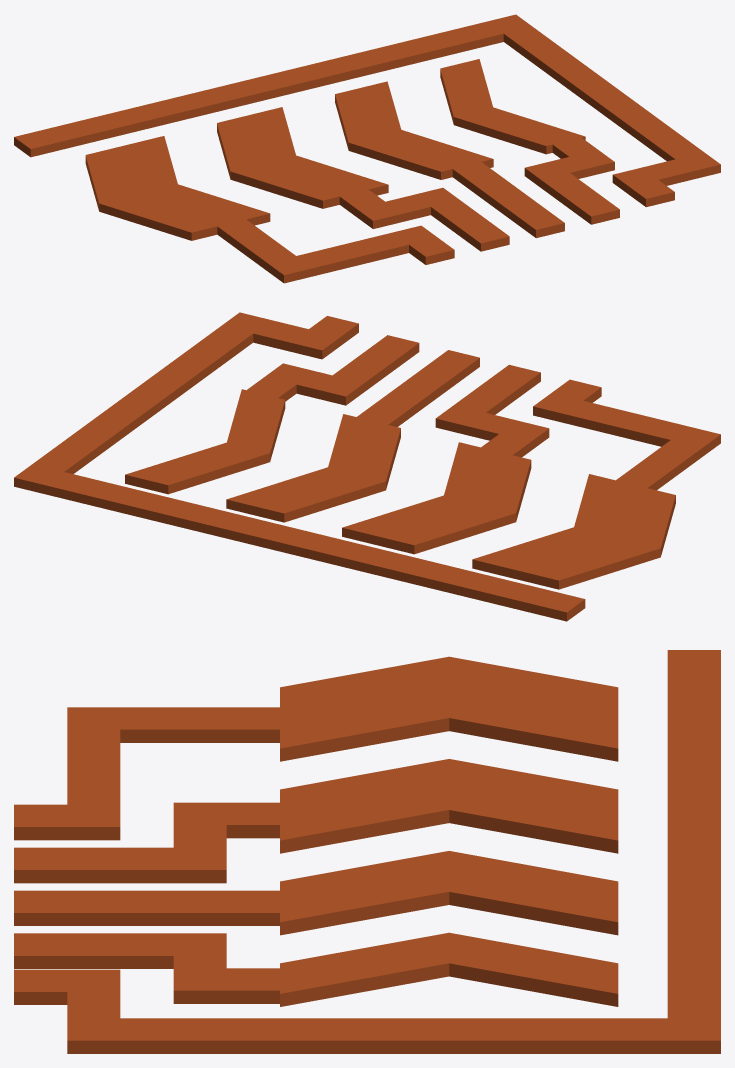
File: indicator_welectrode_tiny.glb
The picture shows the model from 3 angles, top to bottom: view 1: azimuth 30°, elevation 25°; view 2: azimuth 150°, elevation 25°; view 3: azimuth 270°, elevation 25°; orthographic projection. The views are drawn at different scales.
Parts seen in each view (by area): view 1: indicator.001; view 2: indicator.001; view 3: indicator.001.
Part boxes in pixels (bbox=[...]): indicator.001: bbox=[14, 14, 720, 283]; indicator.001: bbox=[14, 312, 720, 621]; indicator.001: bbox=[14, 650, 720, 1053].
Size of the model in its own units: 0.1912 by 0.00451 by 0.1462.
